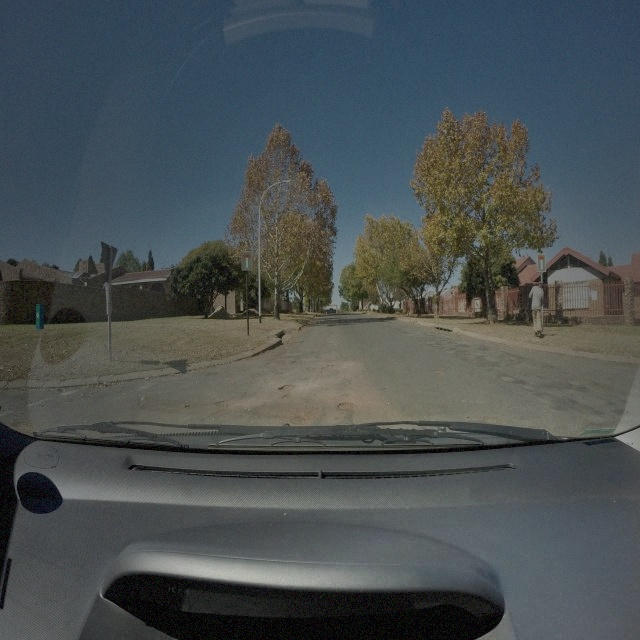pothole: (10, 420, 40, 431), (278, 382, 297, 394), (336, 400, 355, 410), (292, 412, 310, 422), (215, 398, 230, 409), (500, 375, 516, 385), (432, 368, 444, 377), (322, 364, 337, 371)
